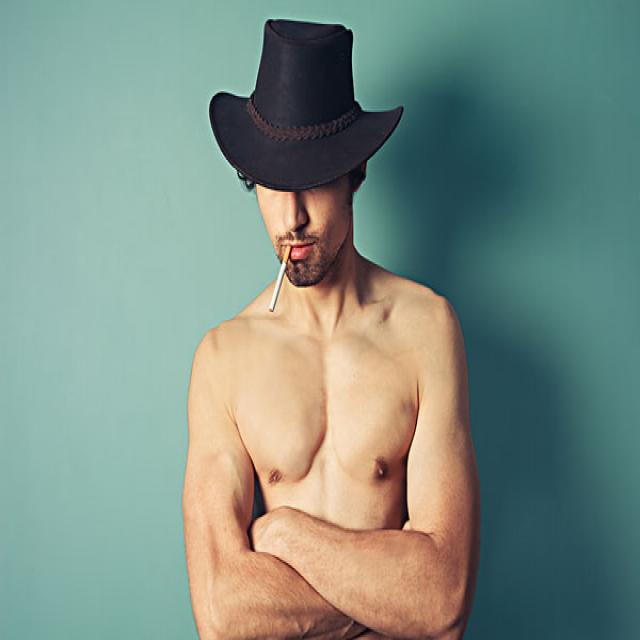smoking: (270, 243, 292, 314)
